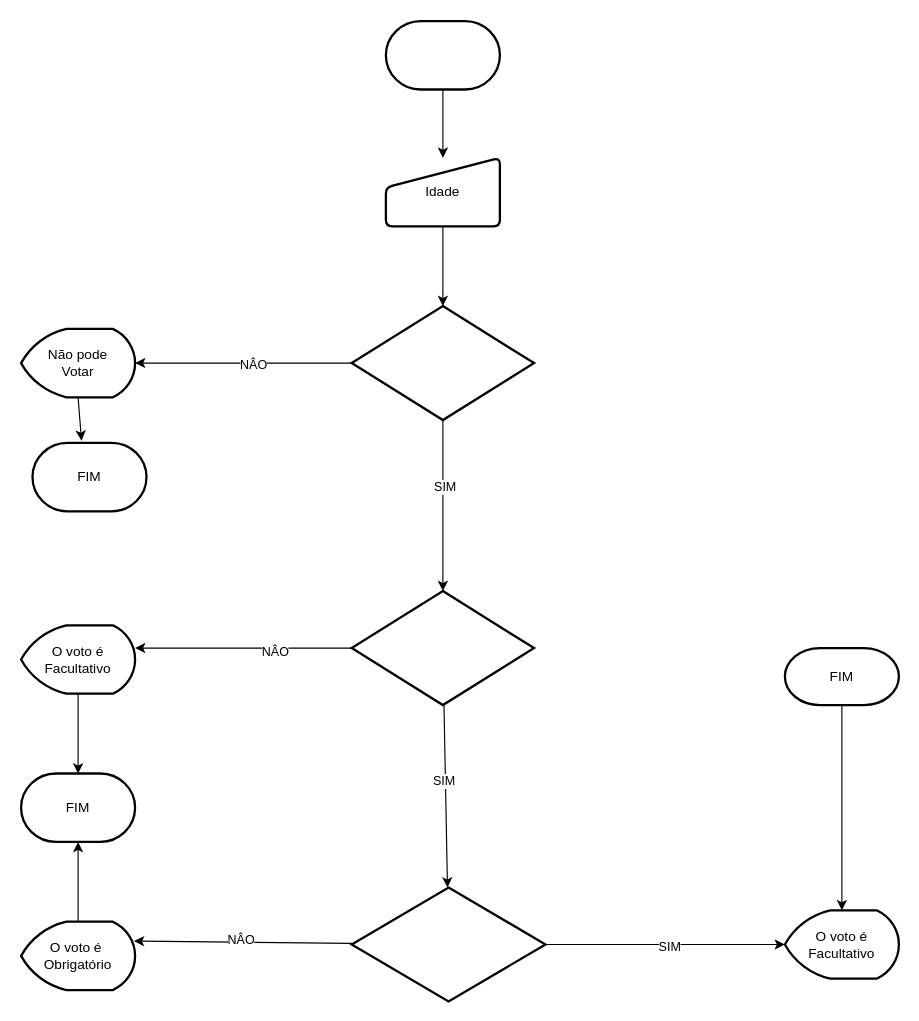
Image size: 919x1021. Some labels were removed from this diagram. The box of each missing label's shape, as (x1, y1, x2, y2) in pixels:
Inicio: (384, 19, 500, 90)
Tem mais que 16 Anos ? Idade >=16: (350, 304, 535, 421)
Tem mais que 18 anos ? Idade >=18: (350, 589, 535, 706)
Tem mais que 70 anos ? Idade >=70: (350, 886, 546, 1002)
